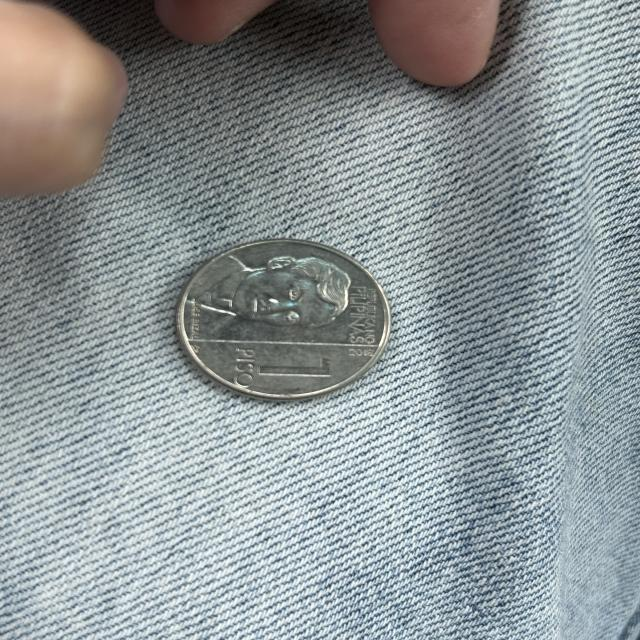1_New_Front: (218, 342, 338, 392)
